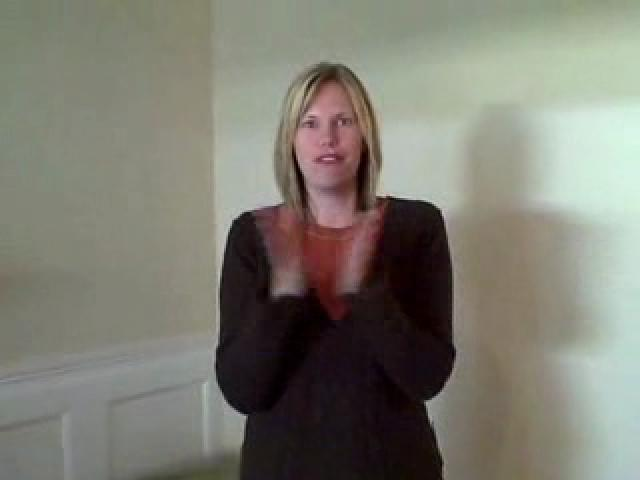F: (196, 53, 458, 467)
